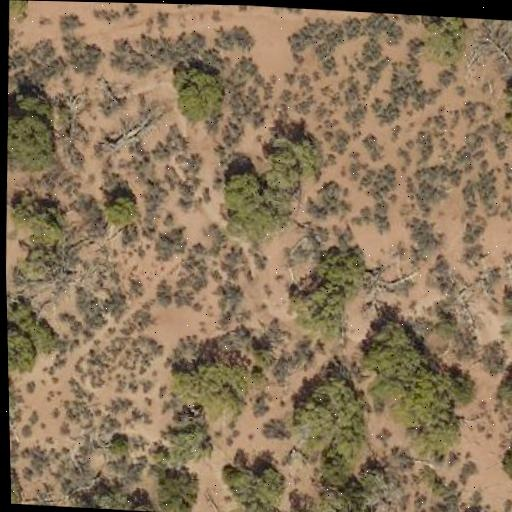tree-top: (357, 308, 466, 433), (283, 235, 365, 343), (165, 336, 260, 425), (285, 365, 370, 464), (275, 8, 368, 93), (218, 160, 293, 242), (254, 121, 331, 197), (5, 82, 65, 172), (303, 235, 373, 312), (6, 183, 76, 253), (221, 450, 293, 512), (168, 60, 229, 125), (7, 306, 59, 379), (156, 407, 223, 463), (413, 15, 478, 67), (65, 475, 153, 511), (150, 463, 204, 512), (308, 480, 379, 512), (95, 185, 143, 232), (499, 427, 512, 490), (497, 361, 512, 408), (502, 72, 512, 139), (502, 278, 512, 340), (8, 0, 32, 24), (10, 462, 23, 504), (8, 375, 20, 415)
